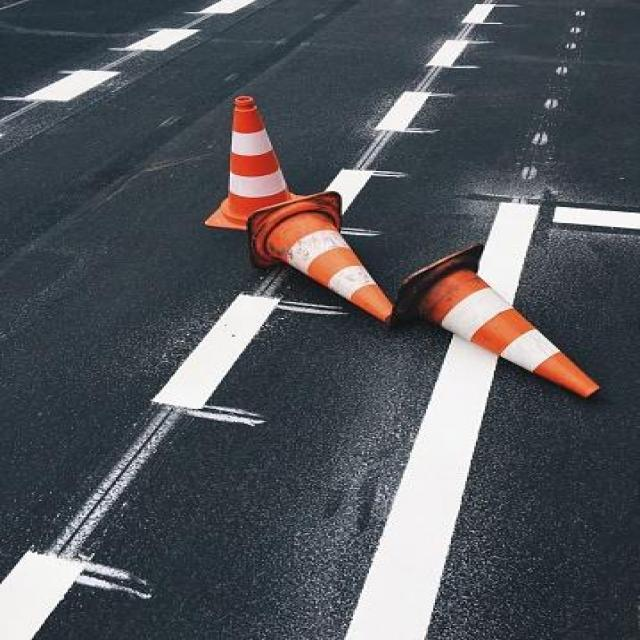Cone: (398, 240, 599, 400), (237, 186, 396, 324), (209, 96, 335, 238)
